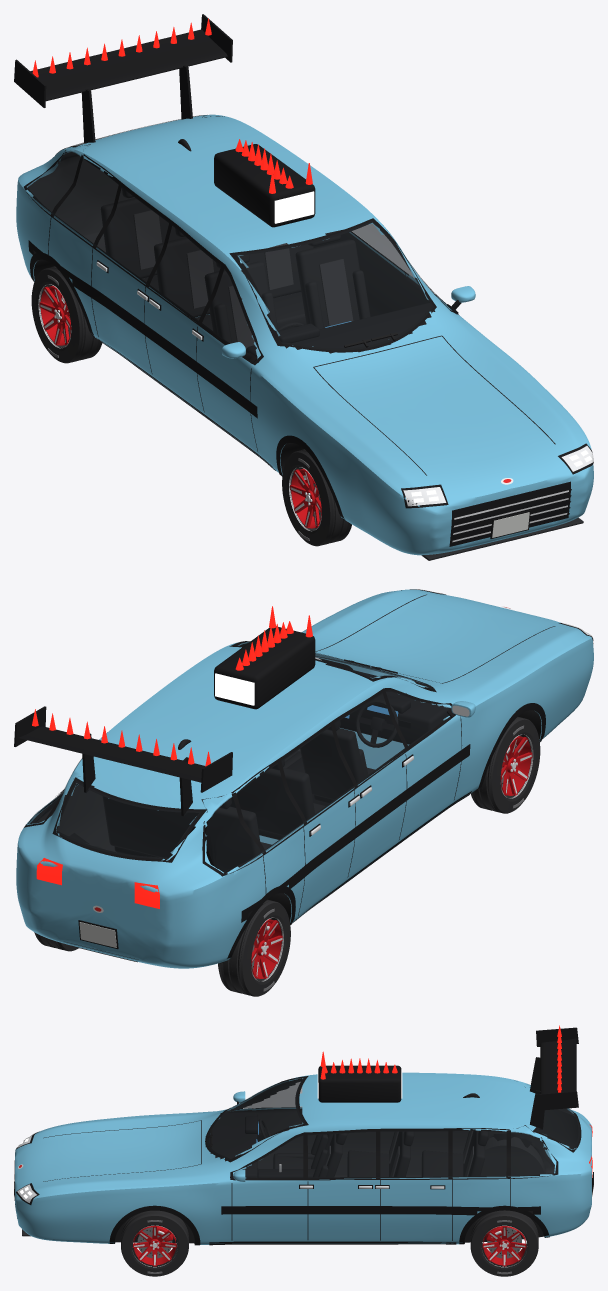
The model's file is amboolataxi.glb.
The picture shows the model from 3 angles, top to bottom: view 1: azimuth 30°, elevation 25°; view 2: azimuth 150°, elevation 25°; view 3: azimuth 270°, elevation 25°; orthographic projection. The views are drawn at different scales.
Parts seen in each view (by area): view 1: Body, Wheel_RR, Wheel_FR; view 2: Body, Wheel_RR, Wheel_FR; view 3: Body, Wheel_RL, Wheel_FL.
Boxes of the visible parts, x1,y1,x2,y2 form: Body: (14,14,593,560); Wheel_RR: (31,266,102,363); Wheel_FR: (282,449,351,546); Body: (14,589,593,968); Wheel_RR: (218,899,290,996); Wheel_FR: (470,717,540,813); Body: (14,1025,593,1245); Wheel_RL: (470,1210,538,1276); Wheel_FL: (121,1210,188,1276).
Bounding box in the file's own units: 2.31 × 2.35 × 6.64.
